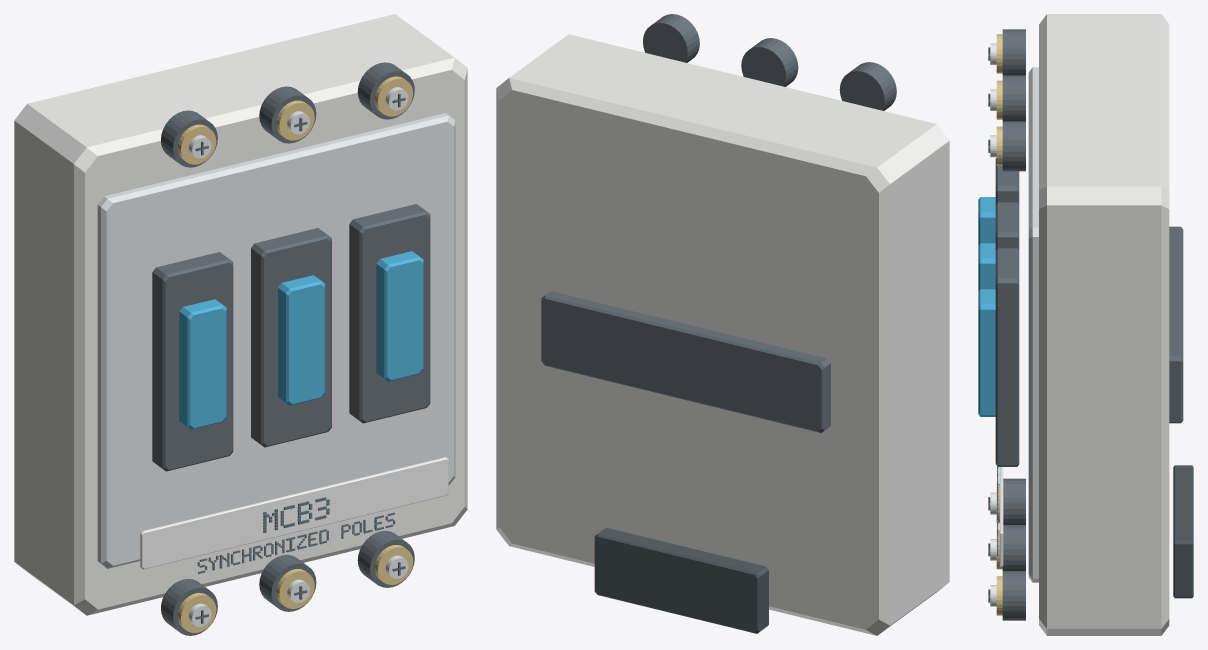
The model's file is mcb3P.glb.
The picture shows the model from 3 angles, left to right: view 1: azimuth 30°, elevation 25°; view 2: azimuth 150°, elevation 25°; view 3: azimuth 270°, elevation 25°; orthographic projection. The views are drawn at different scales.
Parts seen in each view (by area): view 1: mcb3P-detailed; view 2: mcb3P-detailed; view 3: mcb3P-detailed.
Boxes of the visible parts, x1,y1,x2,y2 form: mcb3P-detailed: [14, 14, 467, 635]; mcb3P-detailed: [496, 14, 949, 635]; mcb3P-detailed: [978, 14, 1193, 635].
Size of the model in its own units: 2.75 by 3.44 by 1.36.
